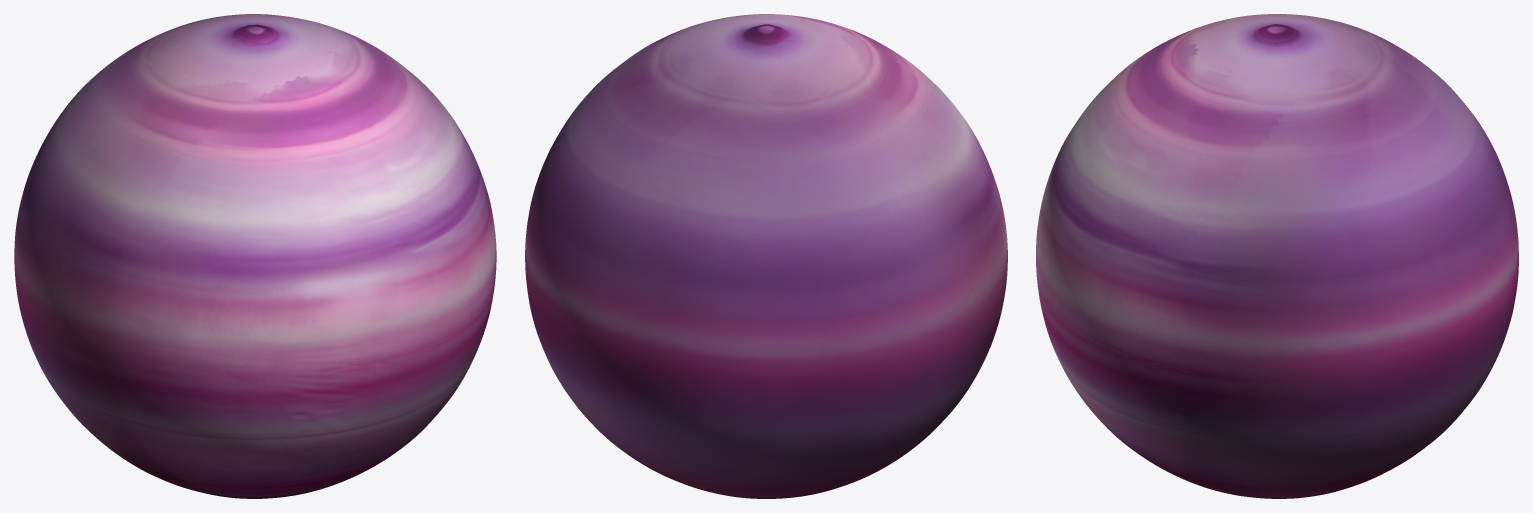
3 views of the same model, side by side, from view 1: azimuth 30°, elevation 25°; view 2: azimuth 150°, elevation 25°; view 3: azimuth 270°, elevation 25° (orthographic).
Size of the model in its own units: 1.92 by 2 by 1.93.
1 material, 1 textured.
